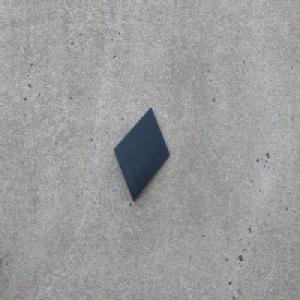PlasticPart: (113, 106, 170, 203)
